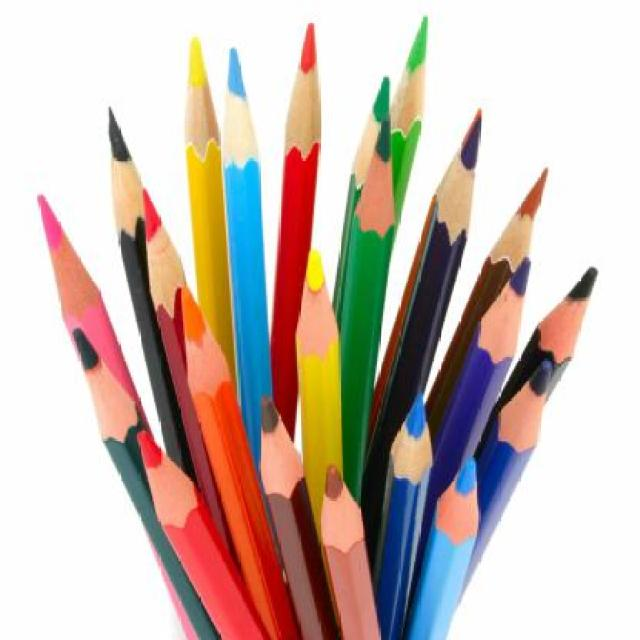pencil: (361, 113, 485, 574), (71, 327, 221, 640), (178, 280, 299, 639), (140, 182, 243, 581), (423, 164, 551, 450), (105, 101, 198, 483), (34, 191, 152, 435), (137, 430, 272, 640), (434, 253, 534, 504), (459, 359, 554, 608), (270, 21, 325, 441), (340, 111, 396, 505), (222, 46, 273, 469), (258, 390, 340, 640), (184, 38, 238, 398), (330, 73, 392, 326), (372, 391, 434, 640), (294, 244, 346, 514), (503, 264, 601, 406), (408, 456, 480, 640), (318, 460, 380, 640), (391, 13, 432, 244)
